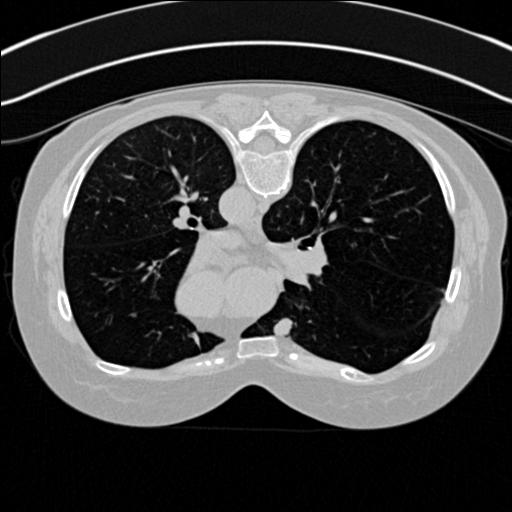nodule: (273, 317, 296, 340)
